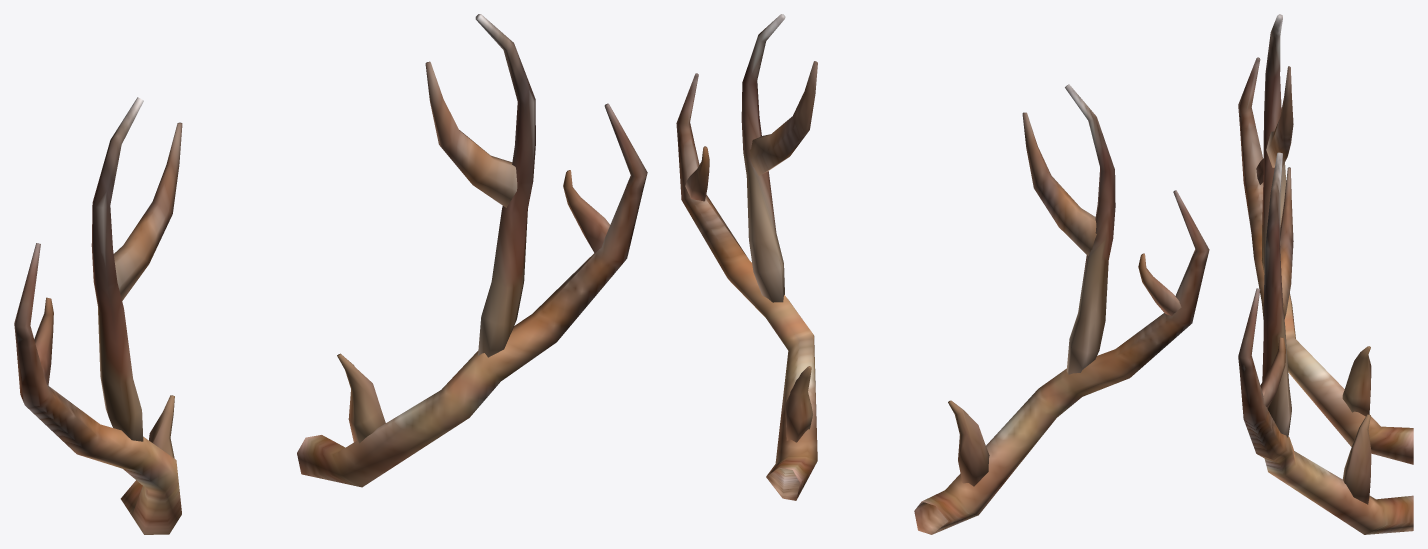
The model's file is antlers_1.FBX.
The picture shows the model from 3 angles, left to right: view 1: azimuth 30°, elevation 25°; view 2: azimuth 150°, elevation 25°; view 3: azimuth 270°, elevation 25°; orthographic projection. The views are drawn at different scales.
Parts seen in each view (by area): view 1: antlers_1; view 2: antlers_1; view 3: antlers_1.
Part boxes in pixels (left/top/right/bottom): antlers_1: left=14, top=14, right=647, bottom=534; antlers_1: left=676, top=14, right=1209, bottom=534; antlers_1: left=1238, top=14, right=1413, bottom=534.
Size of the model in its own units: 72.48 by 54.46 by 21.05.
